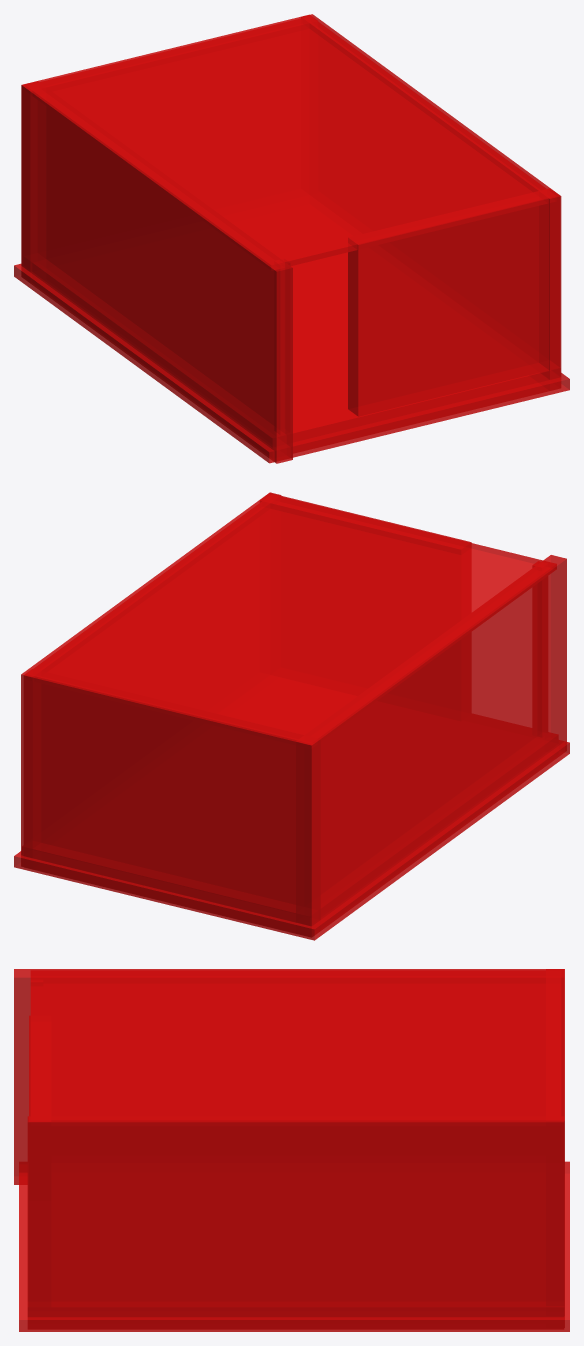
File: SM_Bld_City_Section_Base_05_Collision.fbx
3 views of the same model, one above another, from view 1: azimuth 30°, elevation 25°; view 2: azimuth 150°, elevation 25°; view 3: azimuth 270°, elevation 25° (orthographic). The views are drawn at different scales.
Parts seen in each view (by area): view 1: SM_Bld_City_Section_Base_05_Collision; view 2: SM_Bld_City_Section_Base_05_Collision; view 3: SM_Bld_City_Section_Base_05_Collision.
Part boxes in pixels (x1=…): SM_Bld_City_Section_Base_05_Collision: x1=14, y1=14, x2=569, y2=463; SM_Bld_City_Section_Base_05_Collision: x1=14, y1=492, x2=569, y2=940; SM_Bld_City_Section_Base_05_Collision: x1=14, y1=969, x2=569, y2=1331.
Bounding box in the file's own units: 526 × 321 × 781.
